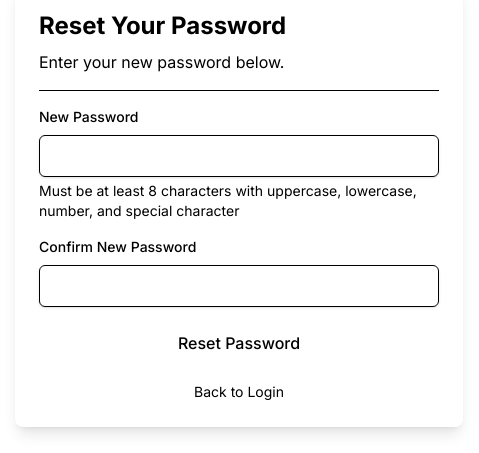
Test: ResetPasswordPage › shows validation error for password missing lowercase
Expected: the button "Reset Password" is shown, [39,322,439,362]
Type "UPPERCASE123!" into the password field labelled "New Password". click: x=239, y=156
box: [39,134,439,176]
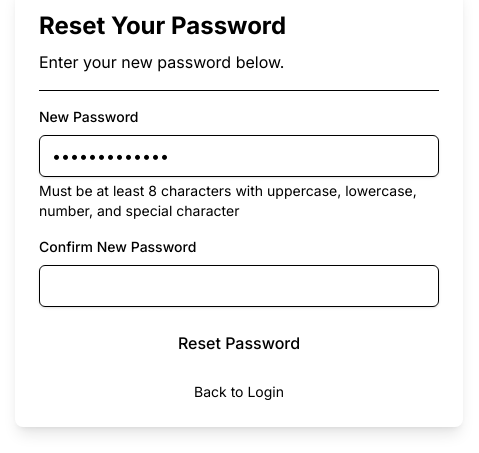
Type "UPPERCASE123!" into the password field labelled "Confirm New Password". click: x=239, y=286
box: [39,264,439,306]
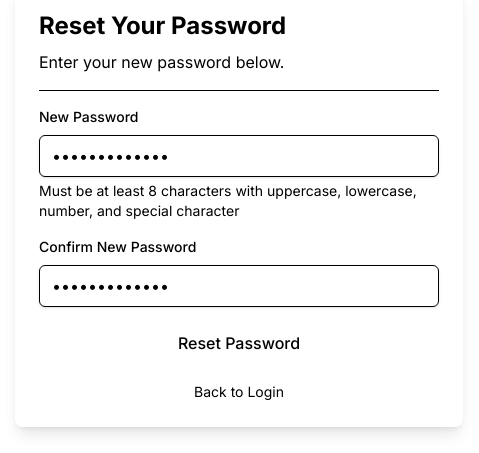
Click the button "Reset Password". click: x=239, y=342
box: [39,322,439,362]
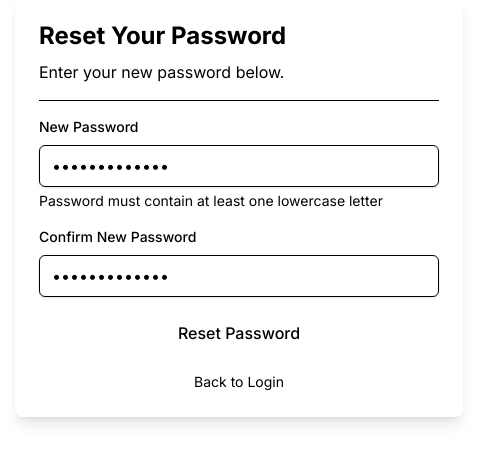
Result: the text "Password must contain at least one lowercase letter" is shown at [39,190,439,210]
